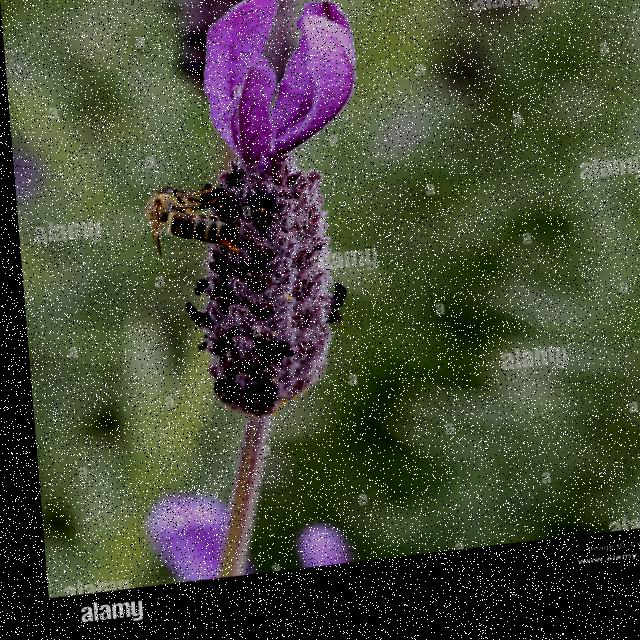Apis-mellifera-scutellata: (132, 178, 234, 264)
